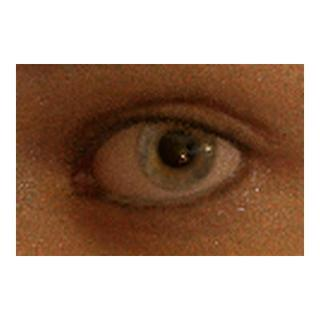pupil: (159, 130, 196, 167)
